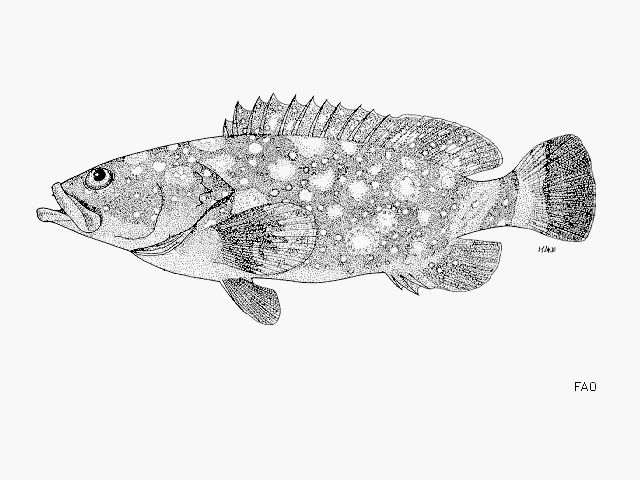fish: (36, 92, 596, 326)
